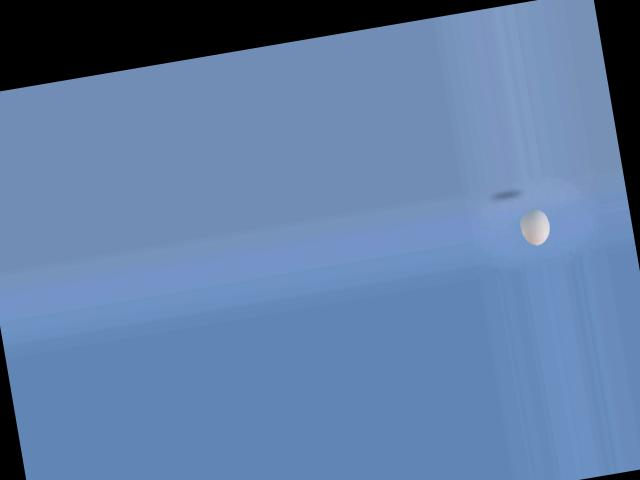egg: (517, 206, 553, 247)
